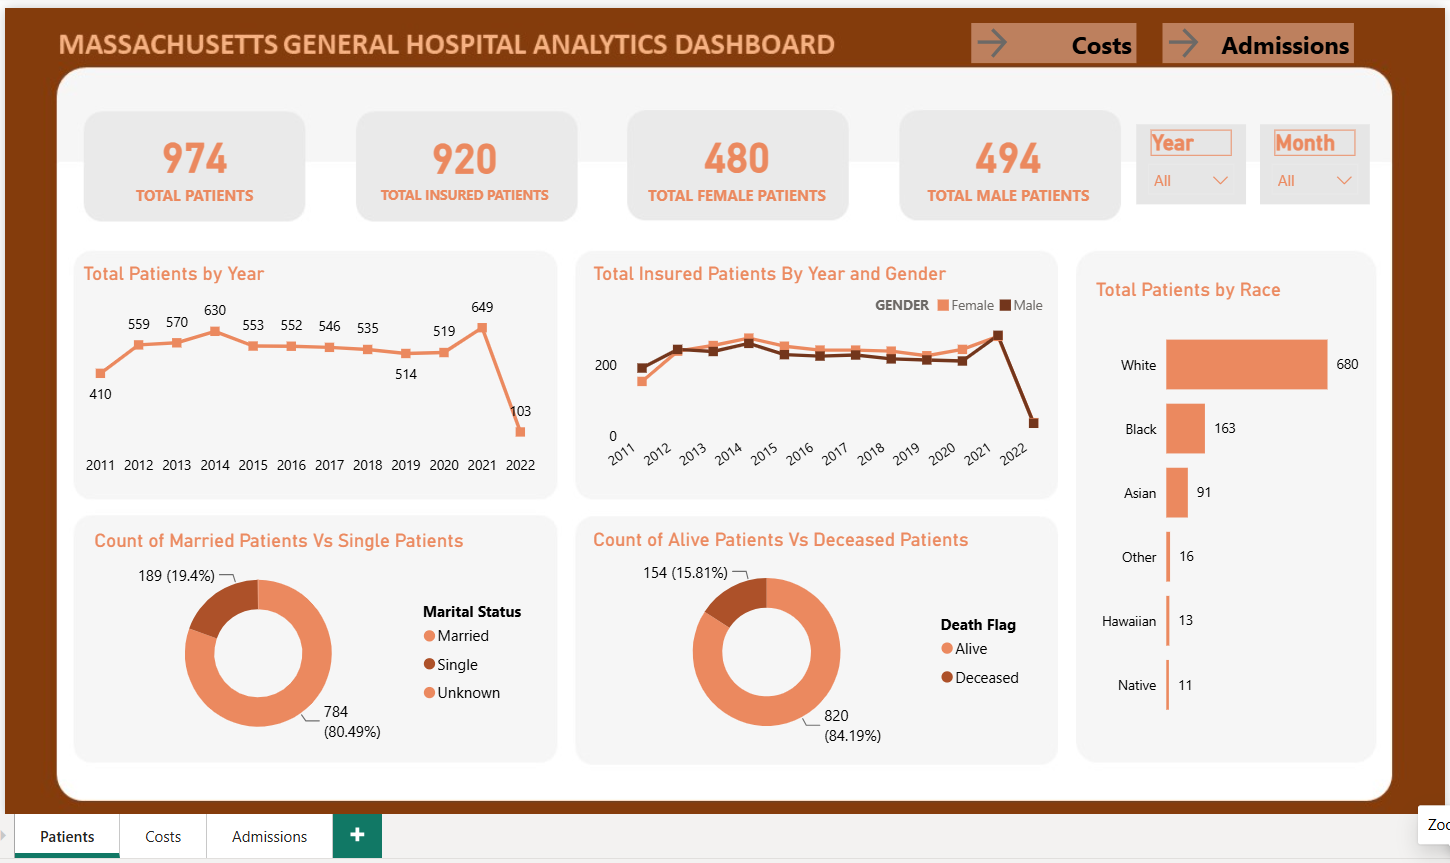

What the dashboard file says about the page in this screenshot:
{"tool":"powerbi","page":{"name":"Patients ","canvas":[1280,720],"ordinal":0},"visuals":[{"type":"card","fields":{"Values":["patients.TOTAL MALE PATIENTS"]},"box":[805.5,97.4,172.9,82.3],"z":0},{"type":"card","fields":{"Values":["Count(patients.PATIENT_ID)"]},"box":[82.3,97.4,172.9,82.3],"z":1000},{"type":"card","fields":{"Values":["patients.Number of Insured Patients"]},"box":[322.5,97.4,172.9,82.3],"z":2000},{"type":"card","fields":{"Values":["patients.TOTAL FEMALE PATIENTS"]},"box":[564,97.4,172.9,82.3],"z":3000},{"type":"donutChart","title":"Count of Alive Patients Vs Deceased Patients","fields":{"Category":["patients.Death Flag"],"Y":["CountNonNull(patients.Death Flag)"]},"box":[517.3,462.4,404.8,201.7],"z":4000},{"type":"clusteredBarChart","title":"Total Patients by Race","fields":{"Category":["patients.RACE"],"Y":["CountNonNull(patients.RACE)"]},"box":[964.7,240.1,244.3,413],"z":5000},{"type":"donutChart","title":"Count of Alive Patients Vs Deceased Patients","fields":{"Category":["patients.MARITAL_STATUS"],"Y":["CountNonNull(patients.MARITAL_STATUS)"]},"box":[74.1,463.8,404.8,201.7],"z":6000},{"type":"lineChart","title":"Total Insured Patients By Year and Gender","fields":{"Series":["patients.GENDER"],"Y":["patients.Number of Insured Patients"],"Category":["encounters.ENCOUNTER_START.Variation.Date Hierarchy.Year"]},"box":[517.3,225,414.4,203.1],"z":7000},{"type":"lineChart","title":"Total Patients by Year","fields":{"Y":["Count(encounters.PATIENT_ID)"],"Category":["encounters.ENCOUNTER_START.Variation.Date Hierarchy.Year"]},"box":[64.5,225,414.4,199],"z":8000},{"type":"slicer","fields":{"Values":["encounters.ENCOUNTER_START.Variation.Date Hierarchy.Year"]},"box":[1005.8,102.9,97.4,71.4],"z":9000},{"type":"slicer","fields":{"Values":["encounters.Month"]},"box":[1115.6,102.9,97.4,71.4],"z":10000},{"type":"actionButton","box":[859,13.7,146.8,35.7],"z":11000},{"type":"actionButton","box":[1029.2,13.7,170.2,35.7],"z":12000}]}

Visuals, with their boxes on the page's 1280x720 design canvas (x1, y1, x2, y2). These are canvas units, not pixel positions in the 1450x863 screenshot, which may show the page scaled, cropped or inside an application window:
card - patients.TOTAL MALE PATIENTS: <region>806, 97, 978, 180</region>
card - Count(patients.PATIENT_ID): <region>82, 97, 255, 180</region>
card - patients.Number of Insured Patients: <region>322, 97, 495, 180</region>
card - patients.TOTAL FEMALE PATIENTS: <region>564, 97, 737, 180</region>
"Count of Alive Patients Vs Deceased Patients" donutChart: <region>517, 462, 922, 664</region>
"Total Patients by Race" clusteredBarChart: <region>965, 240, 1209, 653</region>
"Count of Alive Patients Vs Deceased Patients" donutChart: <region>74, 464, 479, 666</region>
"Total Insured Patients By Year and Gender" lineChart: <region>517, 225, 932, 428</region>
"Total Patients by Year" lineChart: <region>64, 225, 479, 424</region>
slicer - encounters.ENCOUNTER_START.Variation.Date Hierarchy.Year: <region>1006, 103, 1103, 174</region>
slicer - encounters.Month: <region>1116, 103, 1213, 174</region>
actionButton: <region>859, 14, 1006, 49</region>
actionButton: <region>1029, 14, 1199, 49</region>
